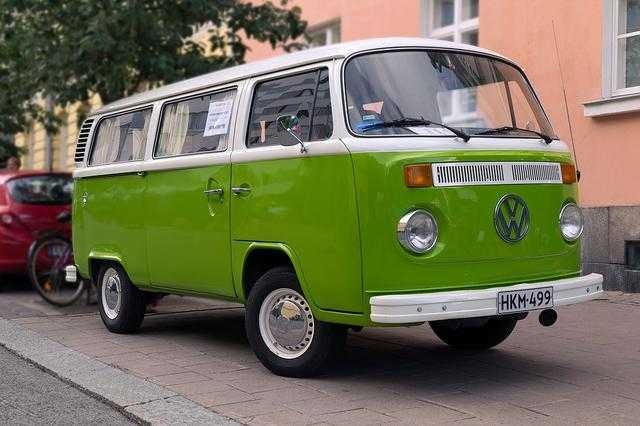van: (71, 36, 609, 378)
